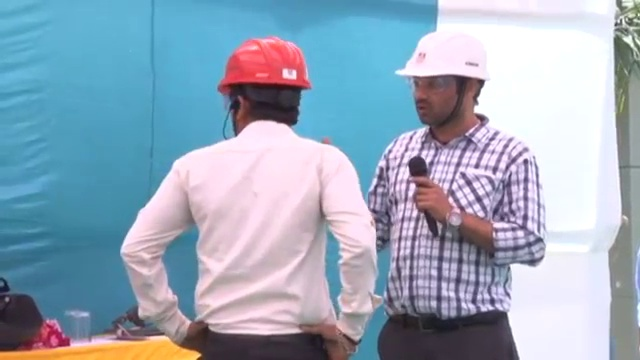helmet: (215, 34, 316, 96), (395, 31, 490, 83)
helmet_on: (214, 34, 316, 135), (393, 31, 492, 134)
person: (114, 34, 377, 360), (369, 31, 550, 360)
